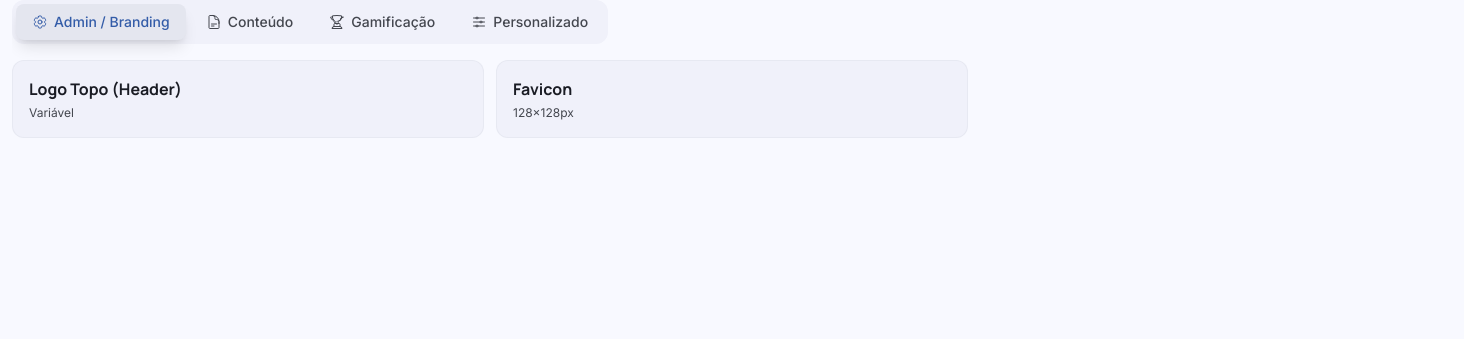
it: GenerateSectionType › shows custom resolution panel when Personalizado tab is selected
The image size is (1464, 339).
Click the tab "Personalizado" at (530,22), box [455,4,604,40]
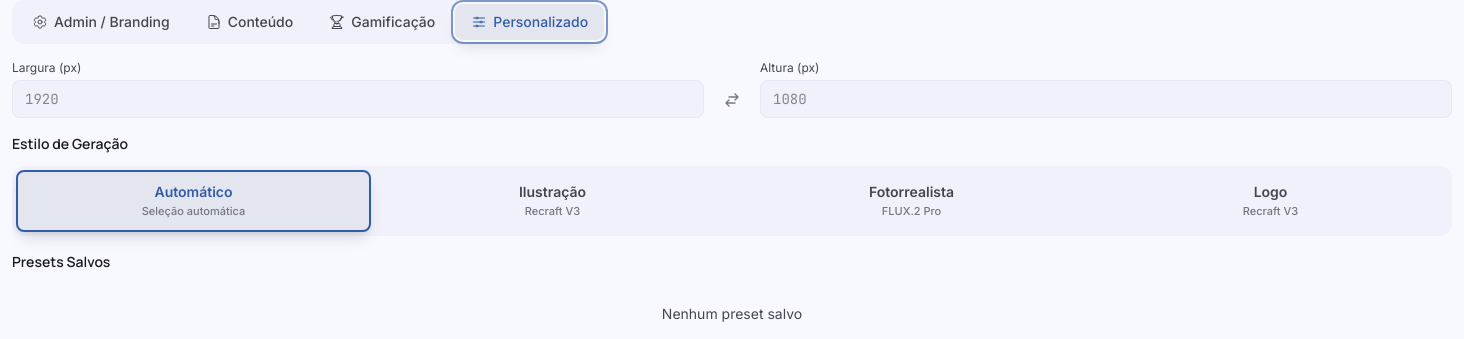
Expected: the number field labelled "Largura (px)" is shown, [12,80,704,118]
Expected: the number field labelled "Altura (px)" is shown, [760,80,1452,118]
